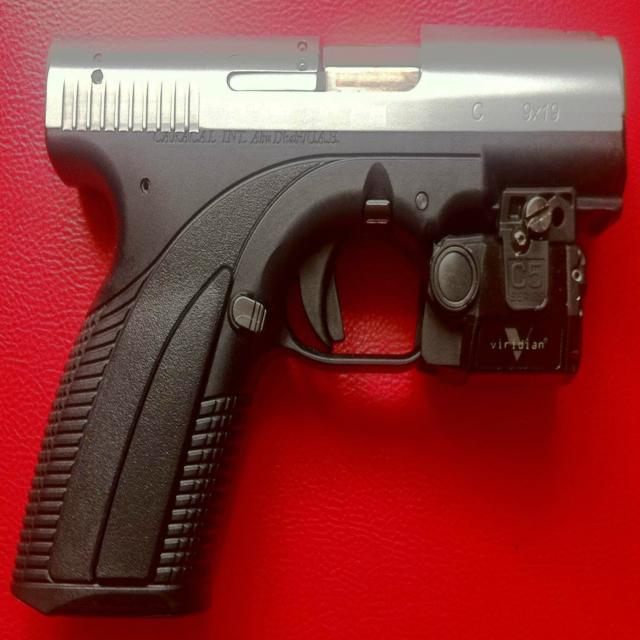Gun: (31, 13, 632, 625)
